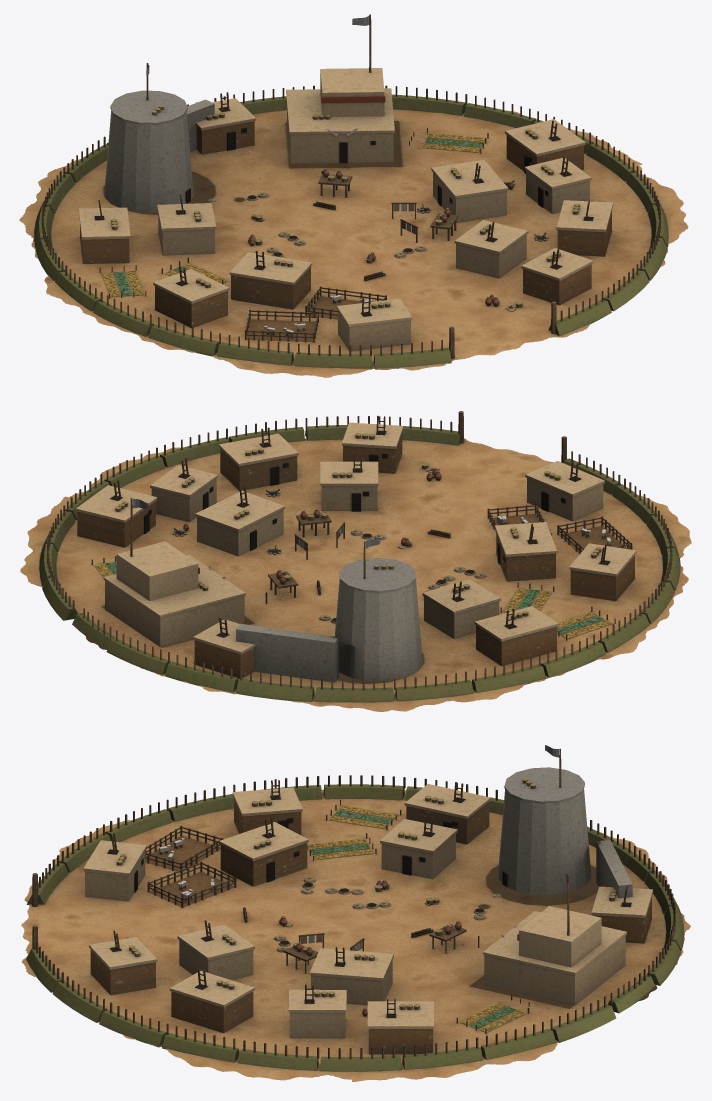
Rendered from stone-town-medium-b-levant.glb.
The picture shows the model from 3 angles, top to bottom: view 1: azimuth 30°, elevation 25°; view 2: azimuth 150°, elevation 25°; view 3: azimuth 270°, elevation 25°; orthographic projection. The views are drawn at different scales.
Parts seen in each view (by area): view 1: LOD0; view 2: LOD0; view 3: LOD0.
Part boxes in pixels (bbox=[...]): LOD0: bbox=[19, 14, 688, 377]; LOD0: bbox=[20, 411, 691, 711]; LOD0: bbox=[21, 745, 690, 1081].
Size of what is drawn, in the model's own units: 5.98 by 1.22 by 5.72.
Materials: 3 (3 with a texture image).
